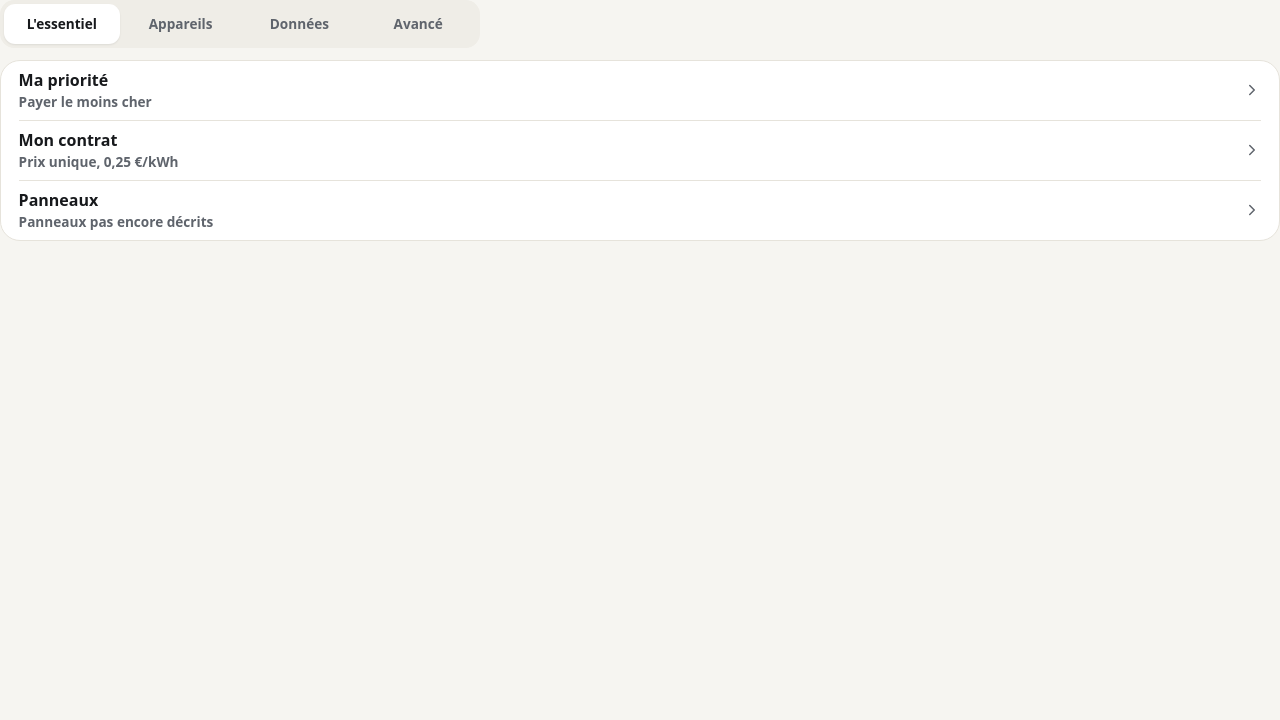
réglages de Ma maison › affiche dans la feuille les anomalies renvoyées par l'API
The image size is (1280, 720).
Click the tab "Appareils": (181,24) [123, 4, 238, 44]
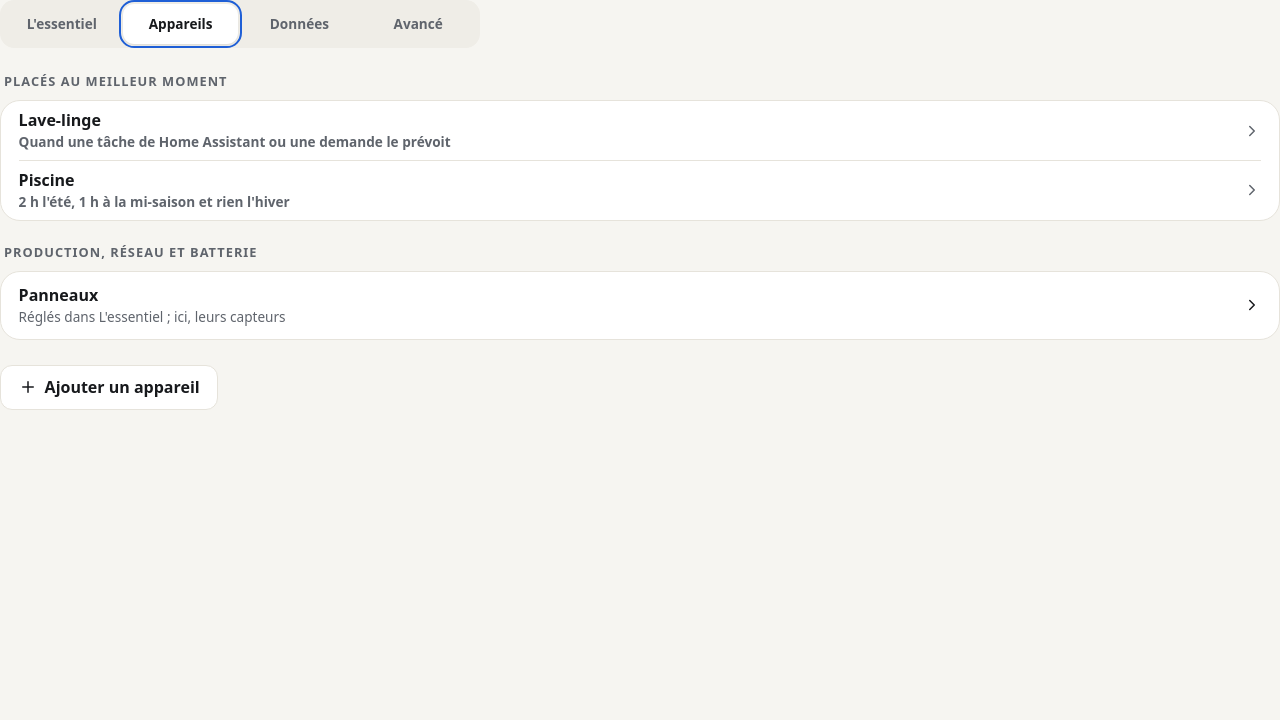
Click the button "Piscine 2 h l'été, 1 h à la mi-saison et rien l'hiver": (47,180) [19, 161, 1261, 220]
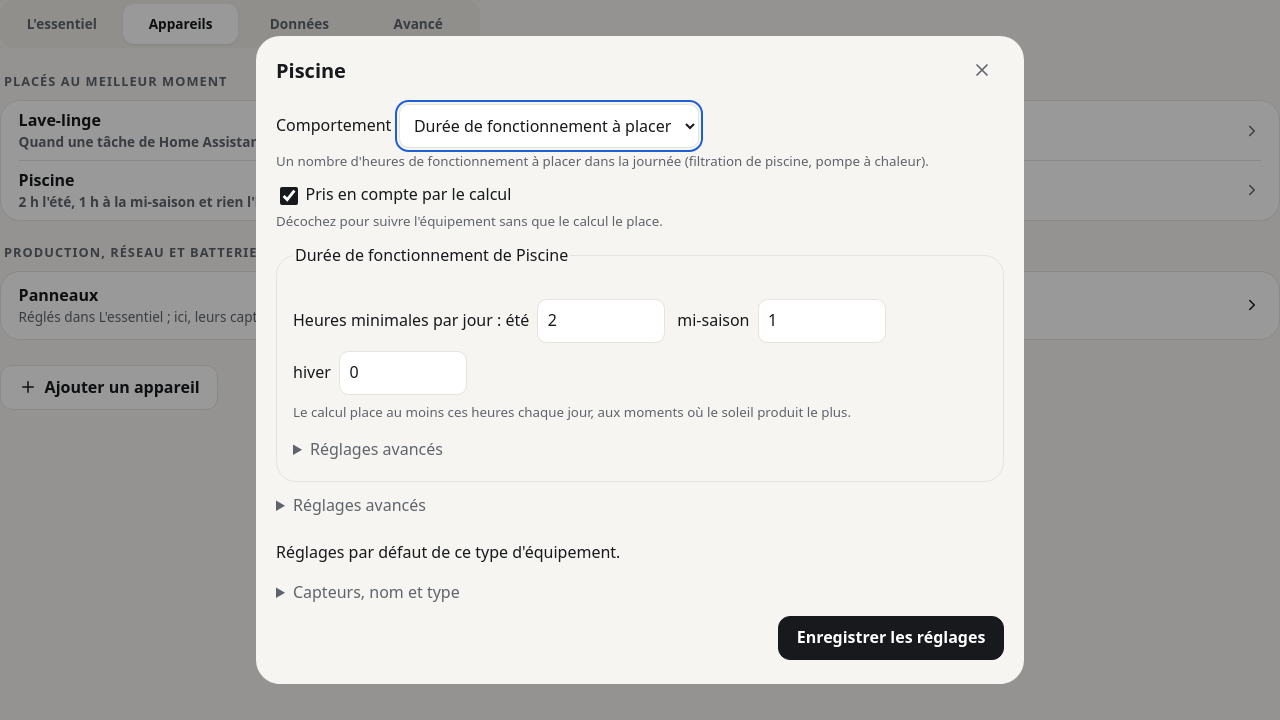
Select "Consommation seulement suivie" in the dropdown labelled "Comportement": (549,126) [399, 104, 698, 148]
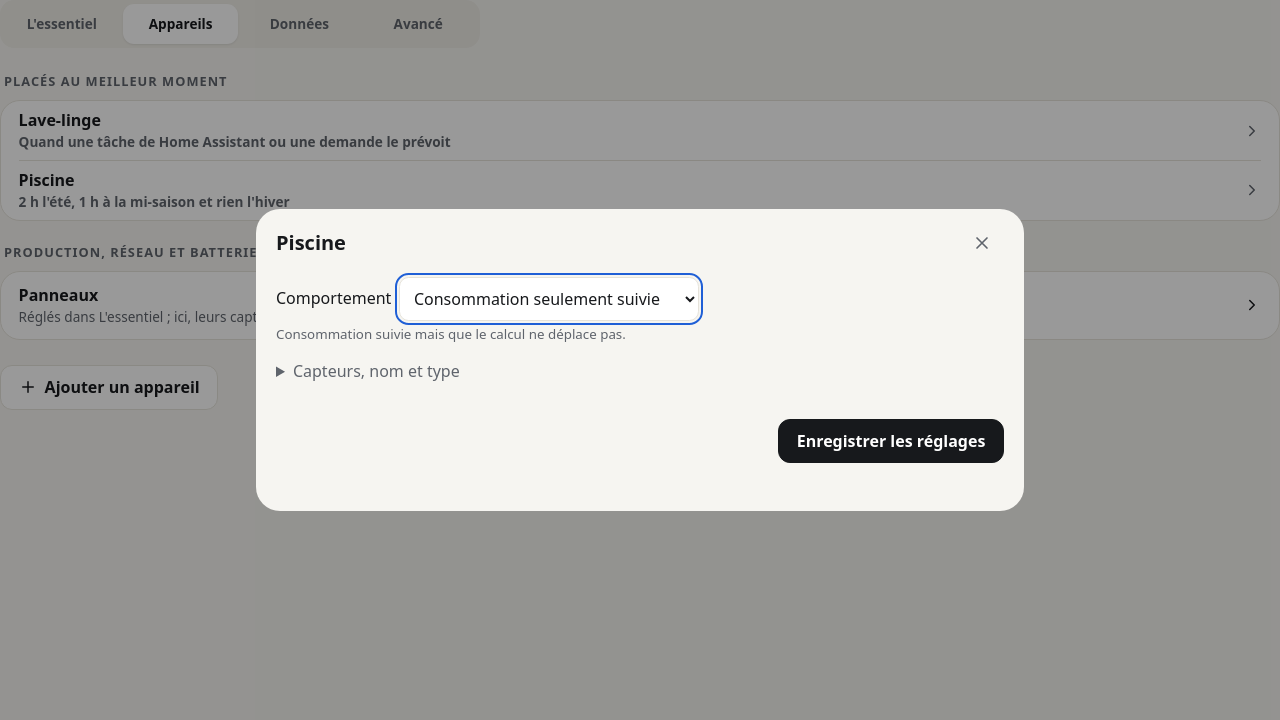
Click the button "Enregistrer les réglages": (891,441) [778, 419, 1004, 464]
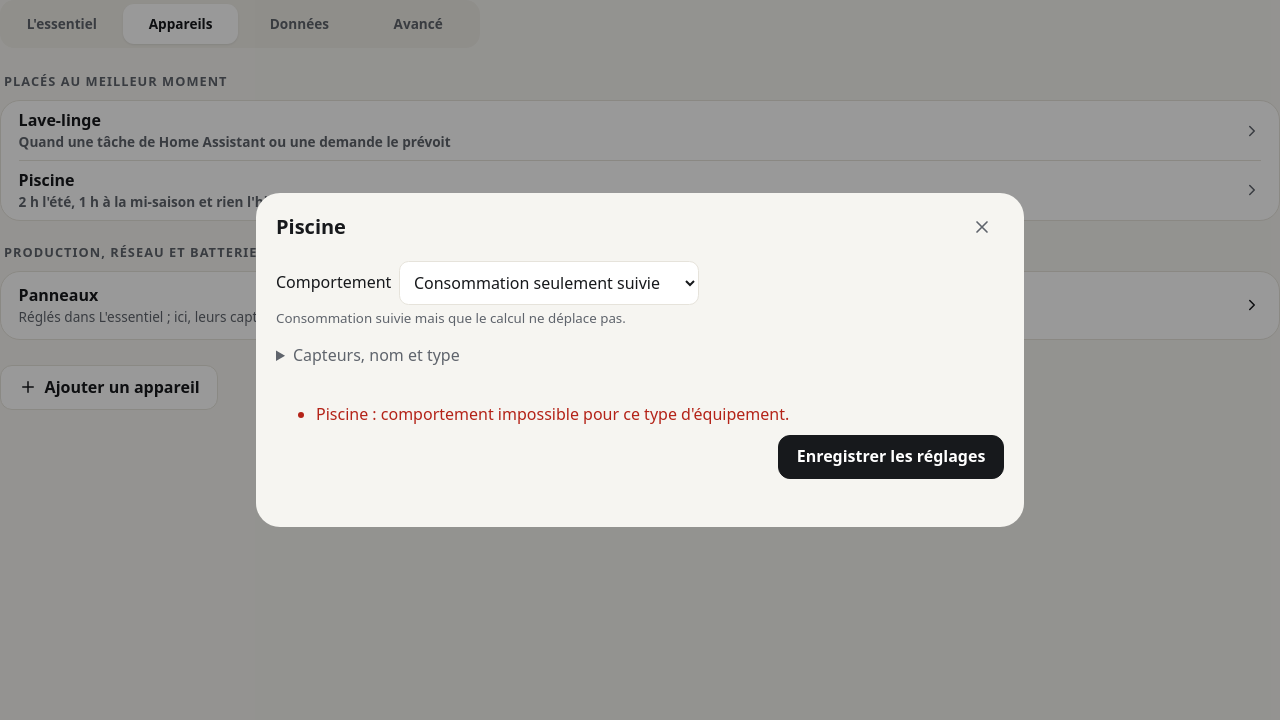
Expected: the message reads "Piscine : comportement impossible pour ce type d'équipement.", [316, 404, 789, 426]
